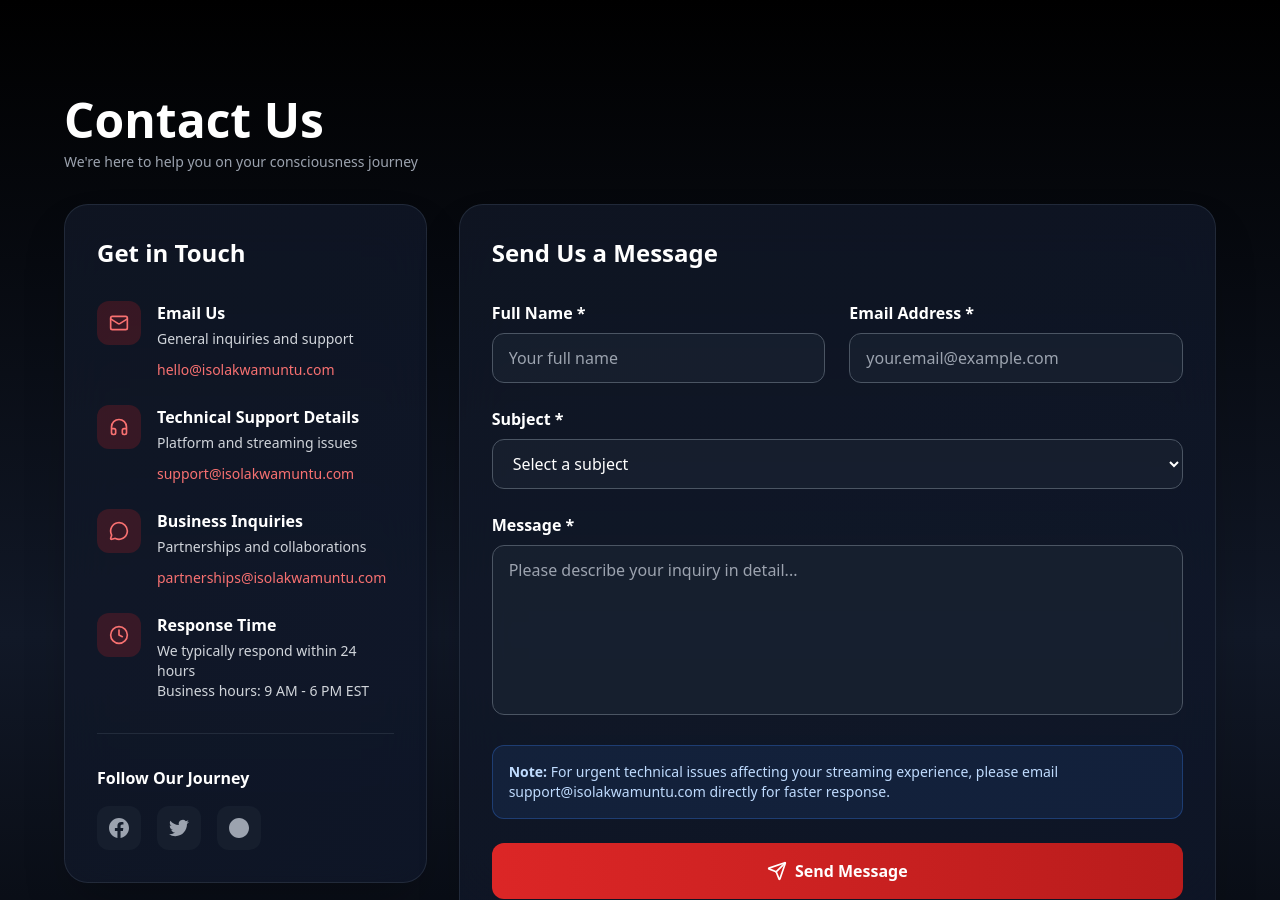
Test case: ContactUsPage › allows typing/selecting and submits with the correct payload
Type "Ada Lovelace" into the field labelled "Full Name *" at coordinates (659, 358), box [492,333,825,383]
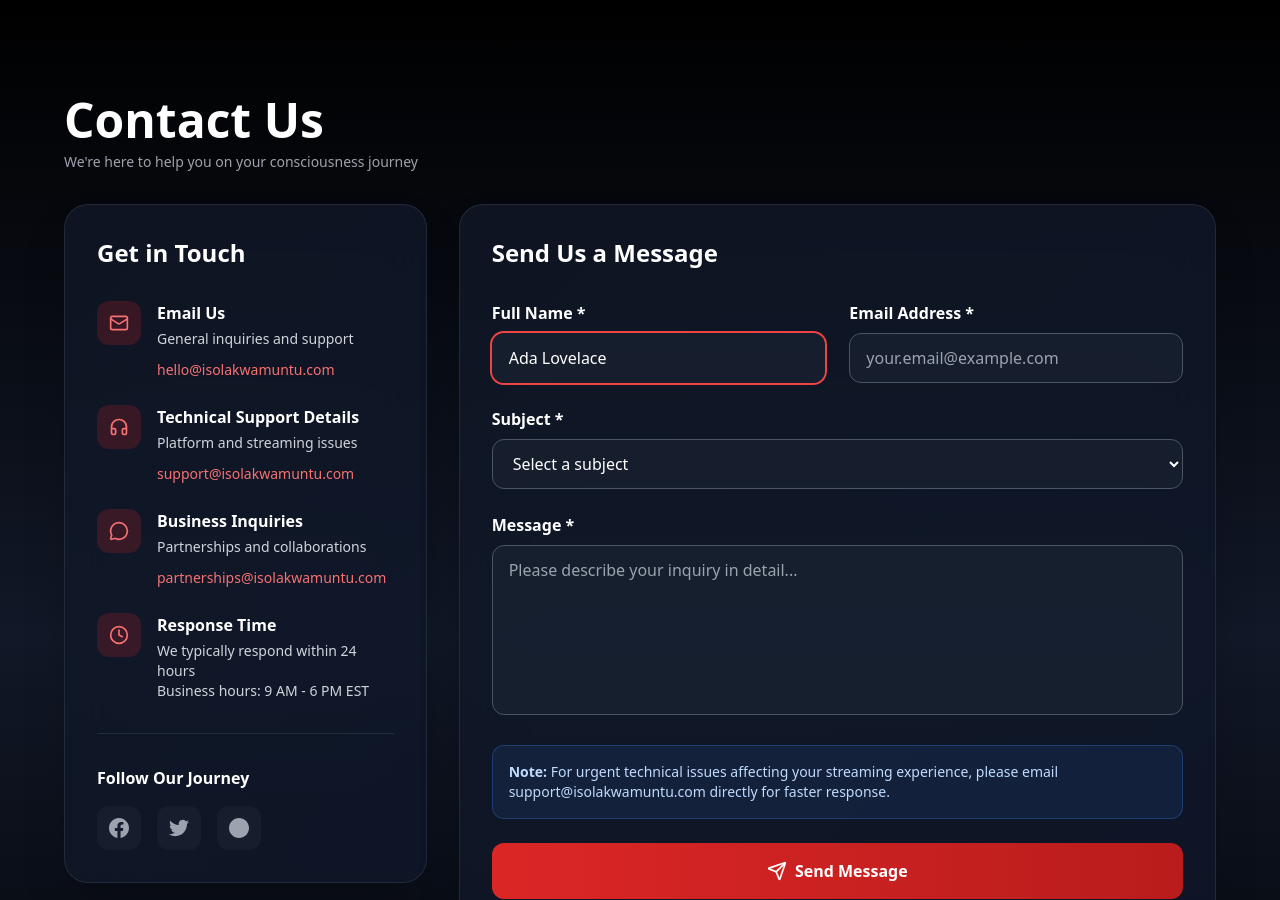
Type "ada@example.com" into the field labelled "Email Address *" at coordinates (1016, 358), box [849,333,1183,383]
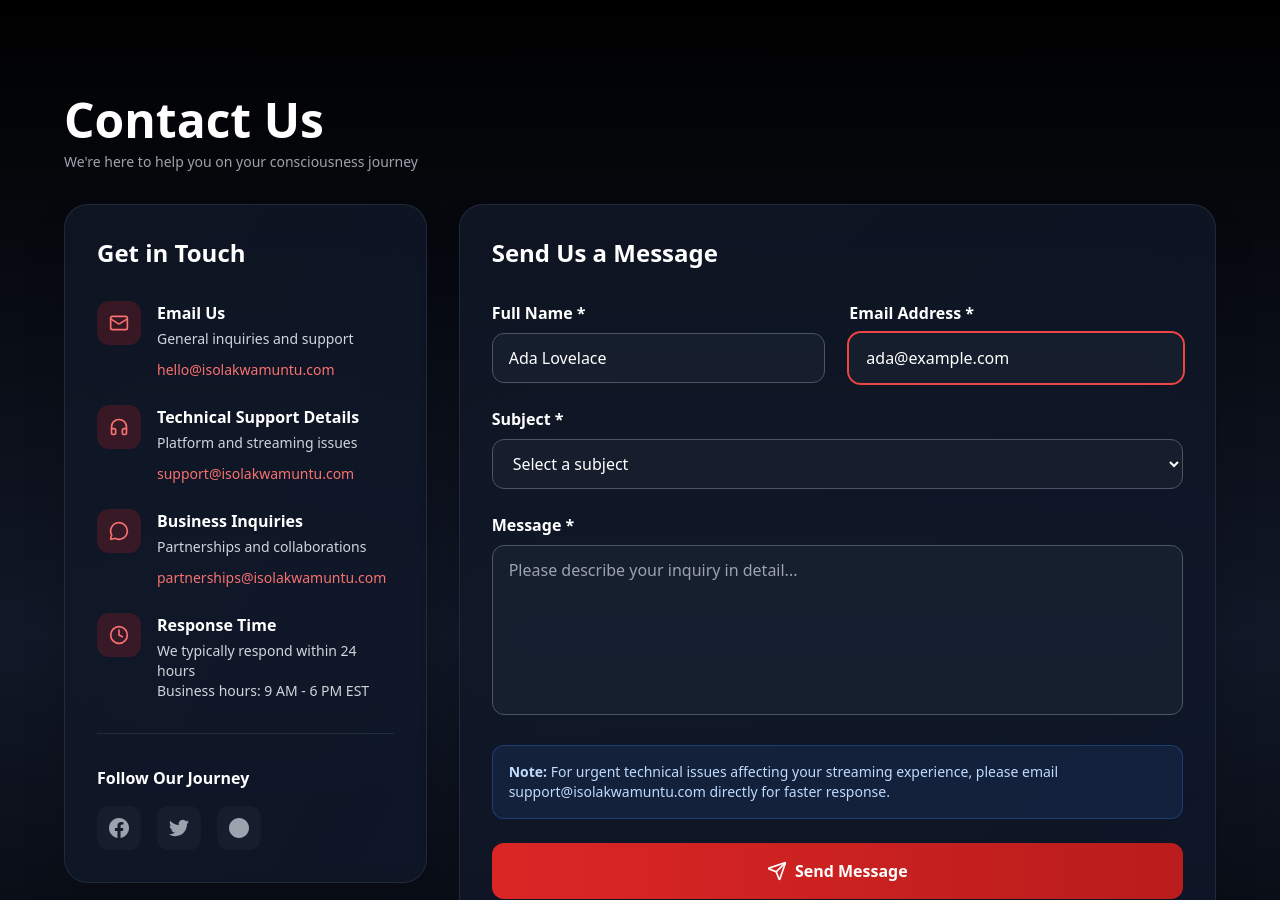
Select "Technical Support" in the dropdown labelled "Subject *" at coordinates (837, 464), box [492,439,1183,489]
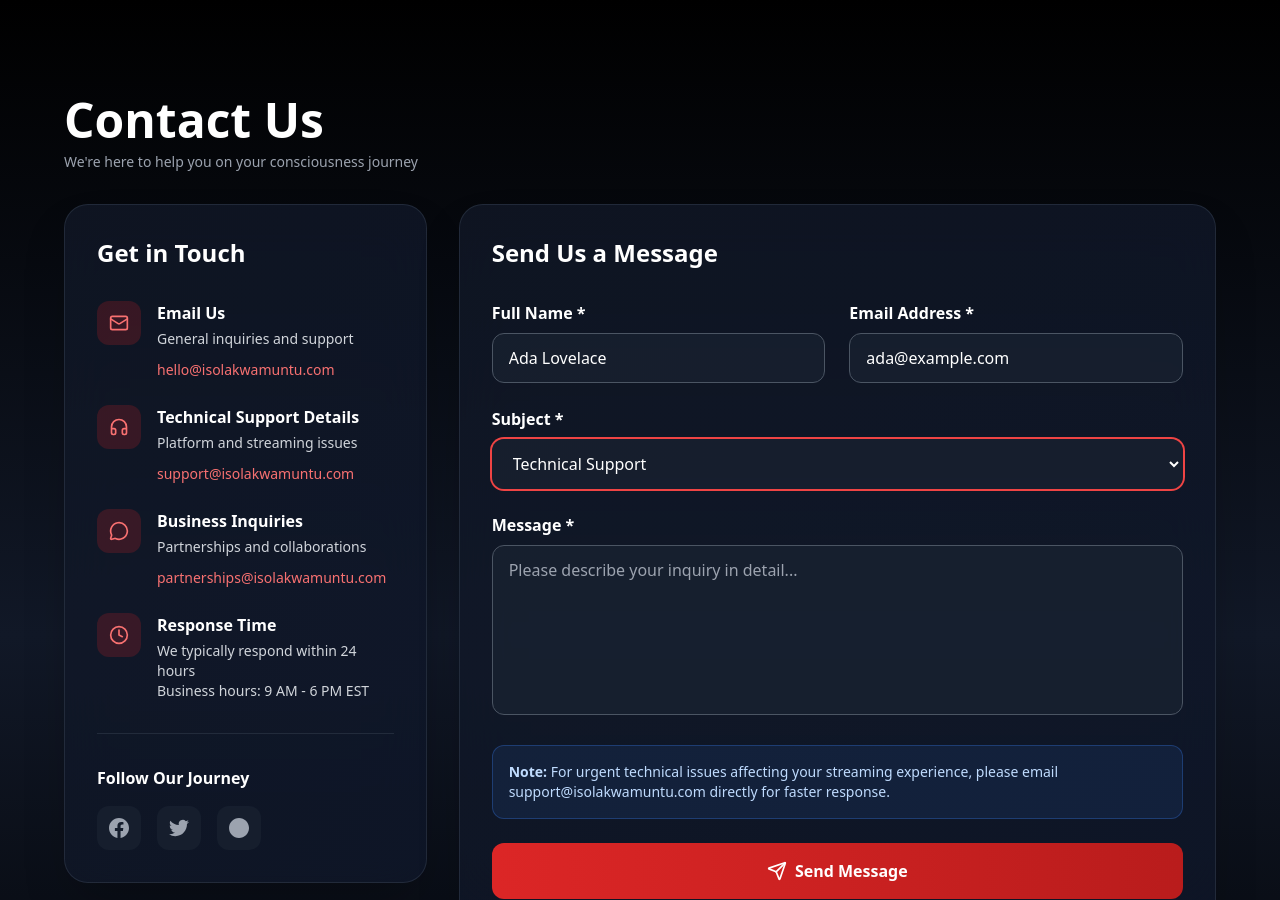
Type "Having trouble with streaming." into the text box labelled "Message *" at coordinates (837, 630), box [492,545,1183,715]
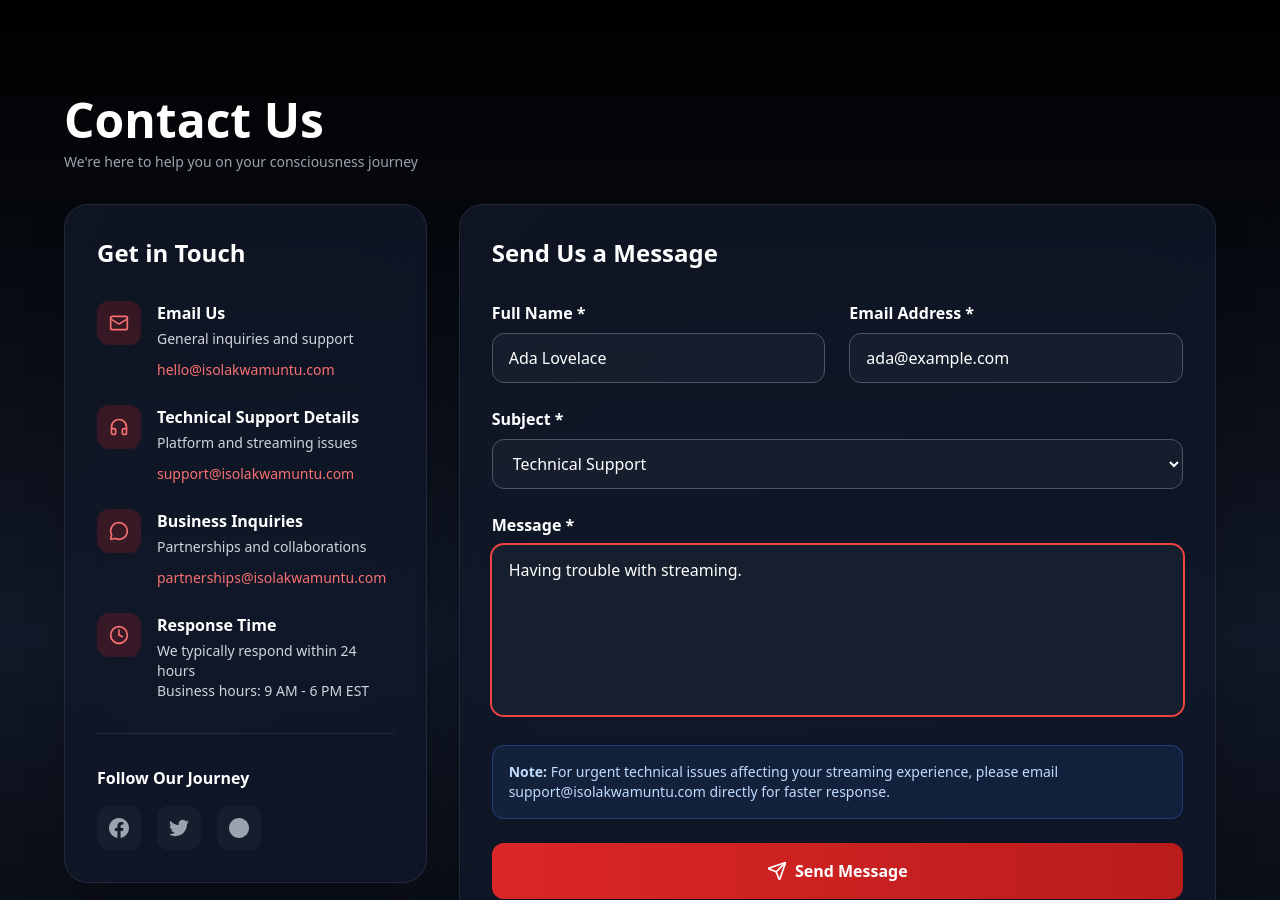
Note: Submit with act wrapper
Click the button "Send Message" at coordinates (837, 871), box [492,843,1183,899]
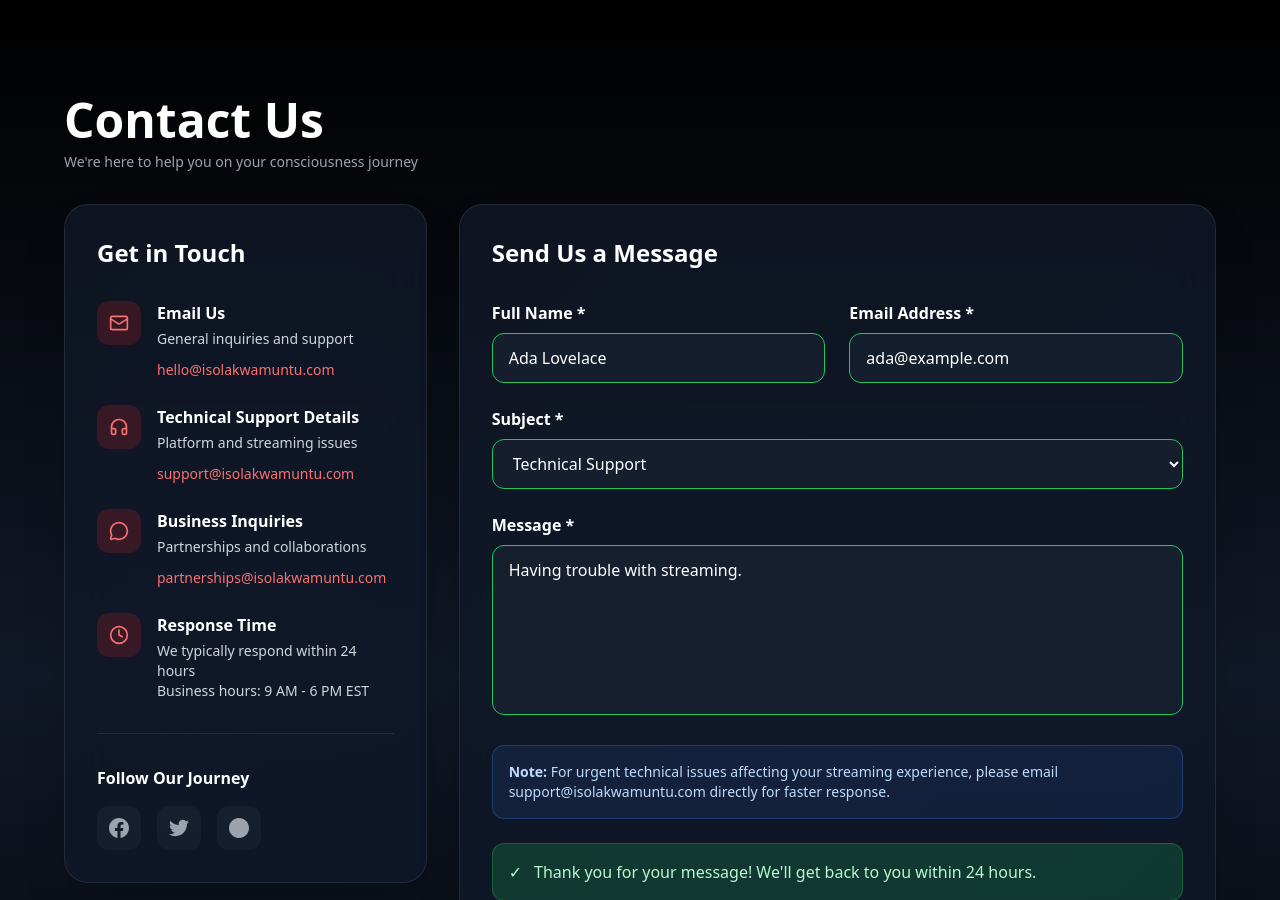
Now the text "Thank you for your message" is shown, box [534,861,1036,883]
